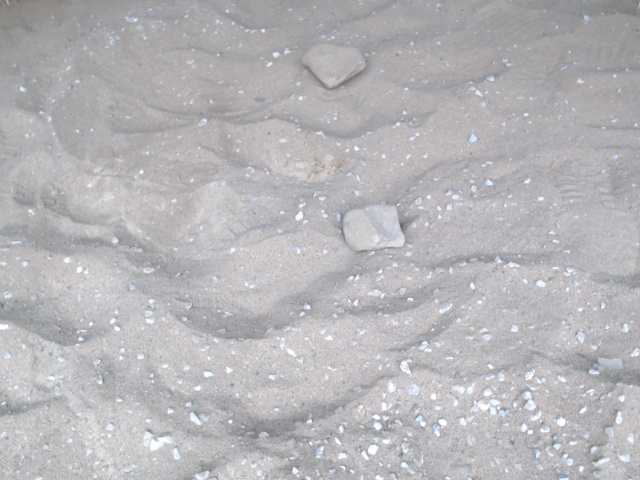rock: (336, 198, 412, 257), (296, 38, 372, 95)
